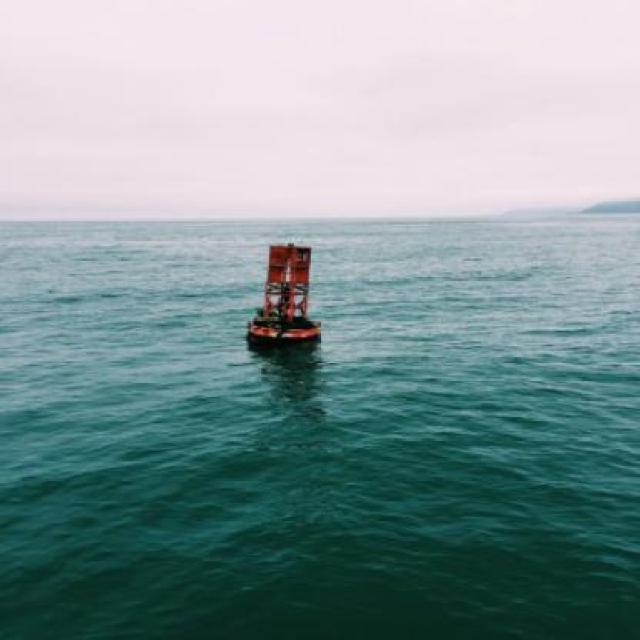buoy: (239, 235, 328, 349)
